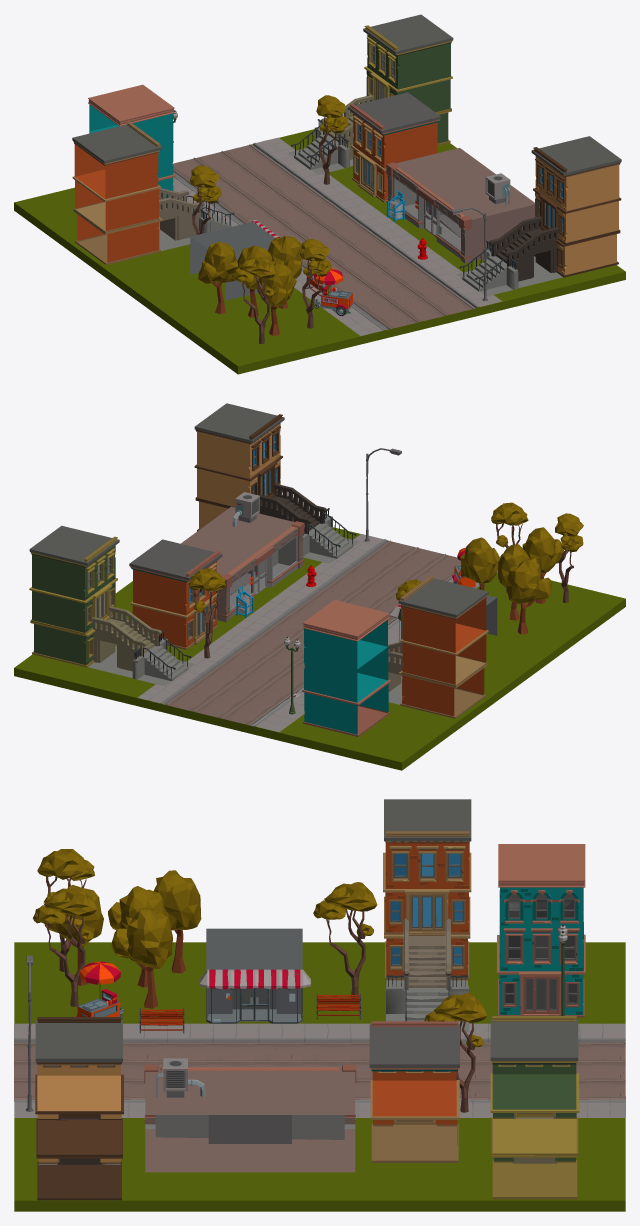
File: House Area 10.fbx
3 views of the same model, one above another, from view 1: azimuth 30°, elevation 25°; view 2: azimuth 150°, elevation 25°; view 3: azimuth 270°, elevation 25° (orthographic). The views are drawn at different scales.
Parts seen in each view (by area): view 1: Plane.010, SM_Env_Path_Straight_01.008, SM_Prop_HotdogStand_01.006, SM_Prop_HotdogStand_01.004, SM_Bld_Shop_03.001, SM_Prop_HotdogStand_01.005, SM_Prop_LightPole_Base_01.005, SM_Bld_Apartment_Roof_02.031, SM_Bld_Apartment_02.009, SM_Bld_Shop_01.002, SM_Env_Tree_03.024, SM_Env_Tree_02.014 (+8 smaller); view 2: Plane.010, SM_Prop_HotdogStand_01.005, SM_Env_Path_Straight_01.008, SM_Prop_HotdogStand_01.004, SM_Prop_HotdogStand_01.006, SM_Bld_Apartment_02.009, SM_Prop_LightPole_Base_01.005, SM_Bld_Shop_03.001, SM_Bld_Apartment_Roof_02.031, SM_Env_Tree_03.024, SM_Env_Tree_03.010, SM_Env_Tree_02.043 (+6 smaller); view 3: Plane.010, SM_Bld_Shop_03.001, SM_Prop_HotdogStand_01.004, SM_Prop_HotdogStand_01.005, SM_Prop_HotdogStand_01.006, SM_Bld_Apartment_02.009, SM_Env_Path_Straight_01.008, SM_Bld_Apartment_Roof_02.031, SM_Prop_LightPole_Base_01.005, SM_Bld_Shop_01.002, SM_Env_Tree_03.010, SM_Env_Tree_02.033 (+10 smaller).
Boxes of the visible parts, <box> form: Plane.010: <box>14,129,625,374</box>; SM_Env_Path_Straight_01.008: <box>173,144,473,329</box>; SM_Prop_HotdogStand_01.006: <box>456,136,621,296</box>; SM_Prop_HotdogStand_01.004: <box>72,121,234,264</box>; SM_Bld_Shop_03.001: <box>386,148,534,263</box>; SM_Prop_HotdogStand_01.005: <box>288,14,453,174</box>; SM_Prop_LightPole_Base_01.005: <box>173,110,502,335</box>; SM_Bld_Apartment_Roof_02.031: <box>348,92,440,202</box>; SM_Bld_Apartment_02.009: <box>88,84,175,198</box>; SM_Bld_Shop_01.002: <box>190,220,279,300</box>; SM_Env_Tree_03.024: <box>198,242,238,314</box>; SM_Env_Tree_02.014: <box>231,256,275,343</box>; Plane.010: <box>14,527,625,770</box>; SM_Prop_HotdogStand_01.005: <box>29,525,194,686</box>; SM_Env_Path_Straight_01.008: <box>166,540,461,725</box>; SM_Prop_HotdogStand_01.004: <box>388,575,488,718</box>; SM_Prop_HotdogStand_01.006: <box>194,403,359,563</box>; SM_Bld_Apartment_02.009: <box>302,600,390,736</box>; SM_Prop_LightPole_Base_01.005: <box>137,448,497,732</box>; SM_Bld_Shop_03.001: <box>181,506,304,622</box>; SM_Bld_Apartment_Roof_02.031: <box>129,539,222,649</box>; SM_Env_Tree_03.024: <box>506,559,551,634</box>; SM_Env_Tree_03.010: <box>460,537,500,590</box>; SM_Env_Tree_02.043: <box>189,568,225,658</box>; Plane.010: <box>14,942,625,1211</box>; SM_Bld_Shop_03.001: <box>144,1064,356,1172</box>; SM_Prop_HotdogStand_01.004: <box>383,799,471,1031</box>; SM_Prop_HotdogStand_01.005: <box>490,1016,579,1199</box>; SM_Prop_HotdogStand_01.006: <box>35,1017,123,1200</box>; SM_Bld_Apartment_02.009: <box>497,844,585,1017</box>; SM_Env_Path_Straight_01.008: <box>14,1042,625,1100</box>; SM_Bld_Apartment_Roof_02.031: <box>369,1021,459,1162</box>; SM_Prop_LightPole_Base_01.005: <box>14,924,625,1117</box>; SM_Bld_Shop_01.002: <box>199,928,310,1023</box>; SM_Env_Tree_03.010: <box>111,908,172,1008</box>; SM_Env_Tree_02.033: <box>33,887,96,1006</box>.
Bounding box in the file's own units: 10090 × 2868 × 10007.
